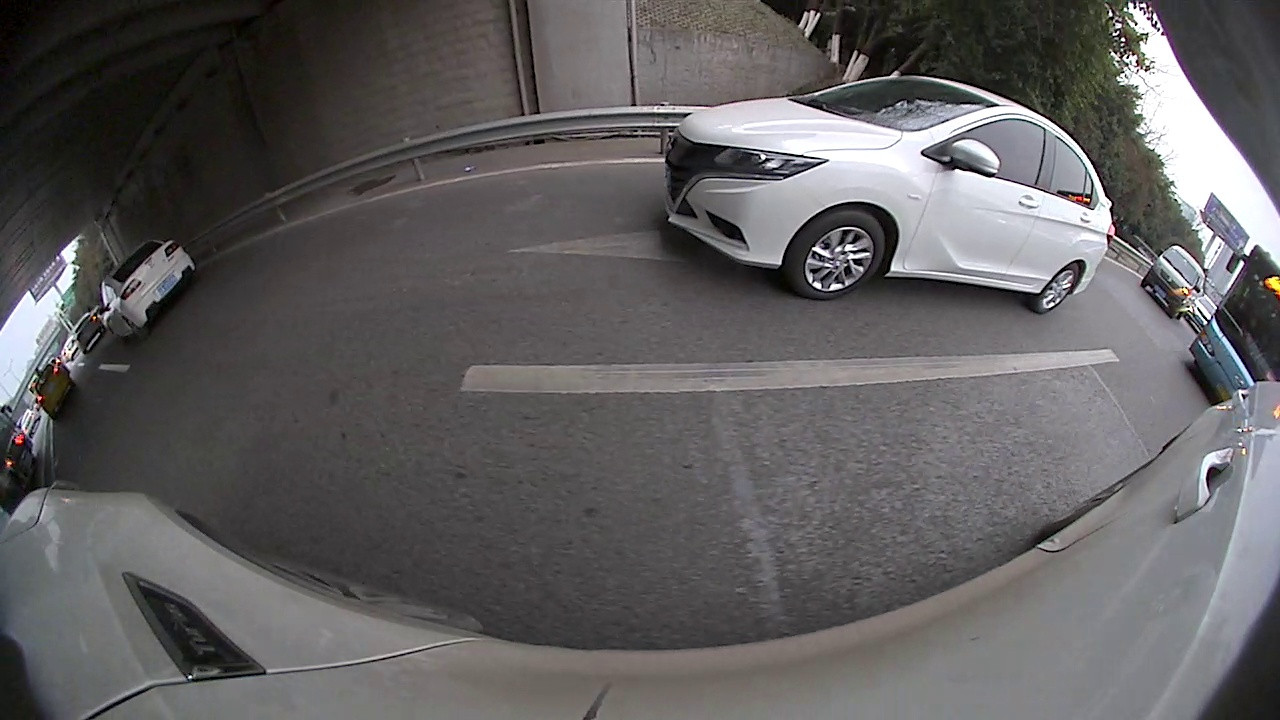bus: (1183, 244, 1279, 404)
car: (659, 72, 1120, 313), (96, 233, 196, 348), (1139, 243, 1209, 317), (26, 359, 78, 422)
front: (784, 204, 889, 305)
rear: (1035, 258, 1081, 315)
